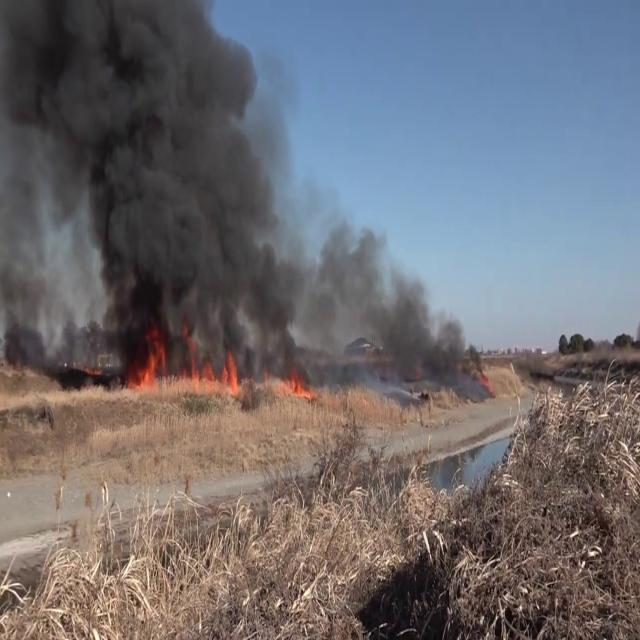Fire: (121, 320, 243, 398), (265, 362, 318, 400)
Smoke: (4, 0, 292, 368), (296, 209, 490, 387), (0, 3, 61, 387)
